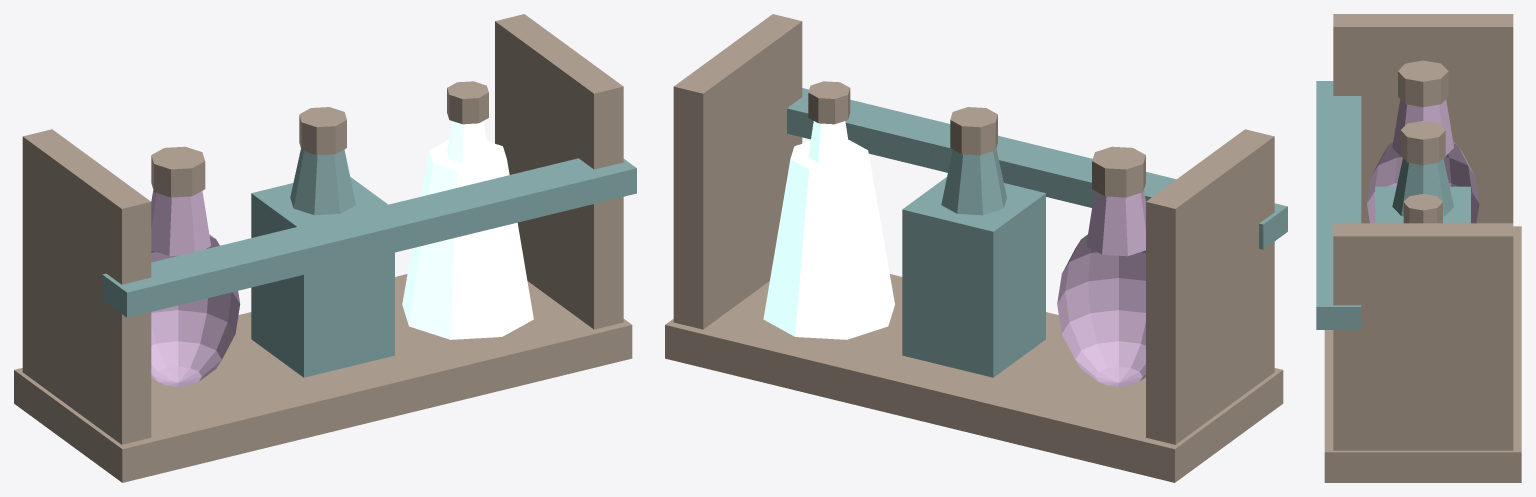
Rendered from runestone-conservatory-botanical-potion-rack__116.glb.
The picture shows the model from 3 angles, left to right: view 1: azimuth 30°, elevation 25°; view 2: azimuth 150°, elevation 25°; view 3: azimuth 270°, elevation 25°; orthographic projection. The views are drawn at different scales.
Visible parts, largest first — view 1: runestone-conservatory-potion-rack; view 2: runestone-conservatory-potion-rack; view 3: runestone-conservatory-potion-rack.
Part boxes in pixels (box(x1,y1,x2,y2)): runestone-conservatory-potion-rack: box(14, 14, 636, 482); runestone-conservatory-potion-rack: box(665, 14, 1287, 482); runestone-conservatory-potion-rack: box(1316, 14, 1521, 482).
Size of the model in its own units: 0.95 by 0.48 by 0.365.
